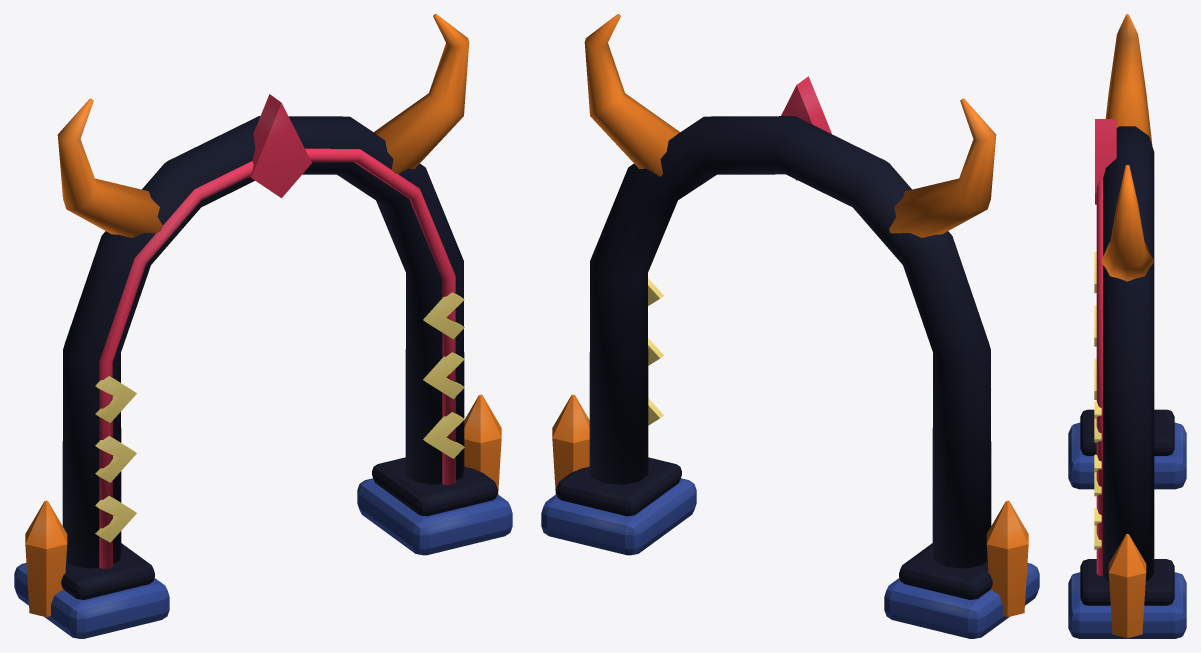
The model's file is PortalHell.fbx.
3 renders of one model, left to right at view 1: azimuth 30°, elevation 25°; view 2: azimuth 150°, elevation 25°; view 3: azimuth 270°, elevation 25°, orthographic. The views are drawn at different scales.
Parts seen in each view (by area): view 1: PortalHell; view 2: PortalHell; view 3: PortalHell.
Boxes of the visible parts, left/top/right/bottom form: PortalHell: left=14, top=14, right=512, bottom=638; PortalHell: left=541, top=14, right=1039, bottom=638; PortalHell: left=1068, top=14, right=1186, bottom=638.
Size of the model in its own units: 12.5 by 12.83 by 3.
1 material, 1 textured.
